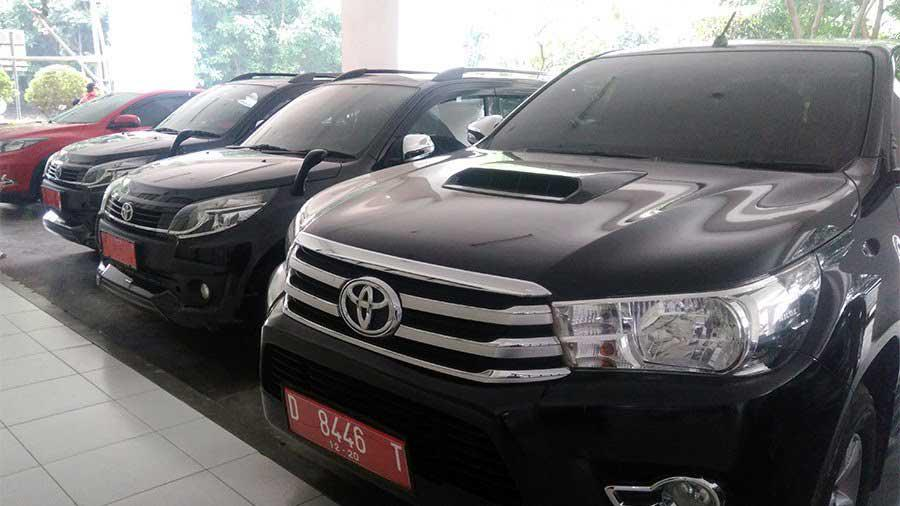plate: (283, 384, 411, 490)
